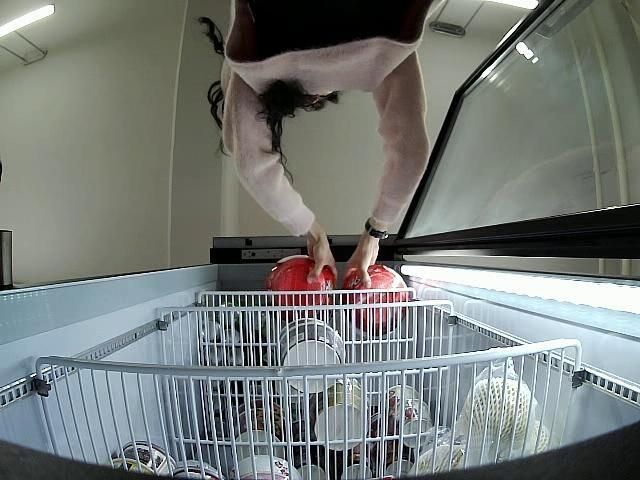10_wangTtukkeong: (342, 264, 409, 335), (268, 254, 337, 318)
